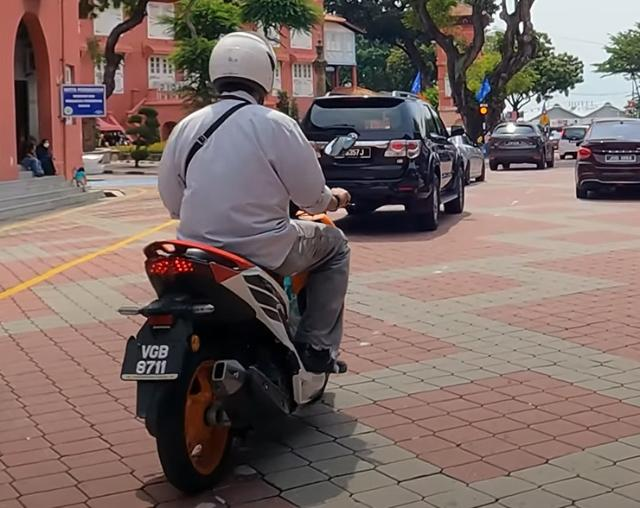License_Plate: (128, 344, 179, 377)
motorcycle: (119, 136, 358, 495)
